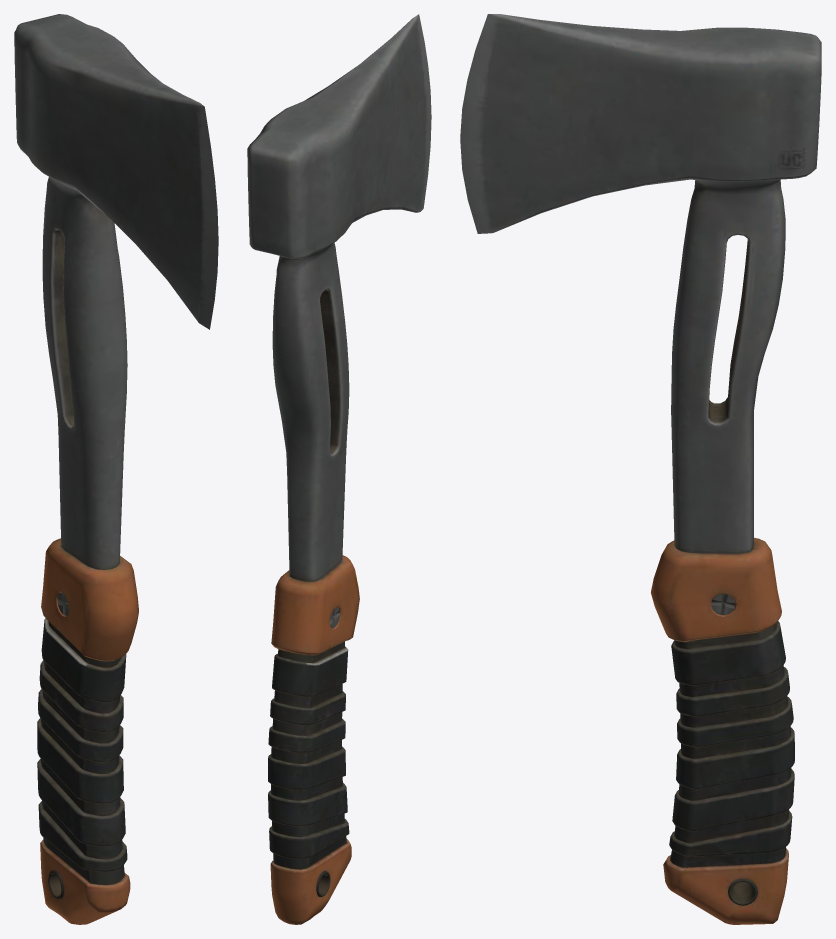
The model's file is hatchet.glb.
The picture shows the model from 3 angles, left to right: view 1: azimuth 30°, elevation 25°; view 2: azimuth 150°, elevation 25°; view 3: azimuth 270°, elevation 25°; orthographic projection. The views are drawn at different scales.
Visible parts, largest first — view 1: hatchet; view 2: hatchet; view 3: hatchet.
Boxes of the visible parts, x1,y1,x2,y2 form: hatchet: (14, 14, 218, 924); hatchet: (247, 14, 431, 924); hatchet: (460, 14, 821, 924).
Bounding box in the file's own units: 0.026 × 0.2887 × 0.1043.
1 material, 1 textured.
